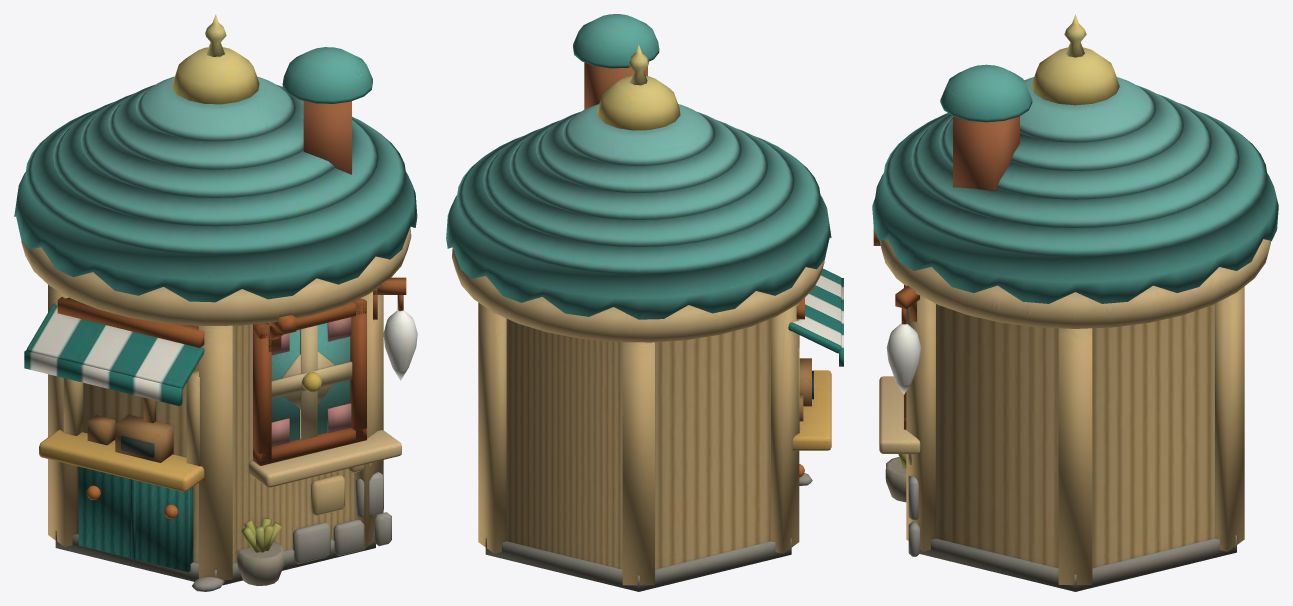
The model's file is kiosk_2_high.glb.
The picture shows the model from 3 angles, left to right: view 1: azimuth 30°, elevation 25°; view 2: azimuth 150°, elevation 25°; view 3: azimuth 270°, elevation 25°; orthographic projection. The views are drawn at different scales.
Visible parts, largest first — view 1: kiosk_2; view 2: kiosk_2; view 3: kiosk_2.
Boxes of the visible parts, box(x1,y1,x2,y2) form: kiosk_2: box(14, 14, 417, 591); kiosk_2: box(446, 14, 843, 591); kiosk_2: box(872, 14, 1278, 591).
Size of the model in its own units: 1.17 by 1.47 by 1.08.
Materials: 1 (1 with a texture image).
